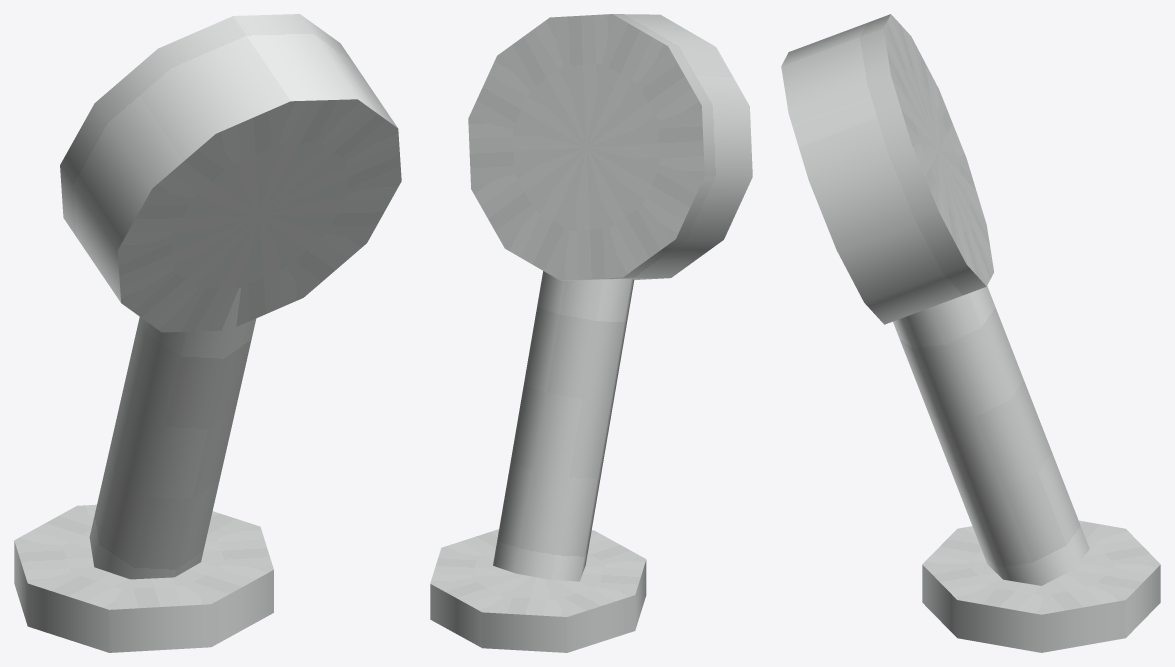
File: nycsignalarm_stub_36.obj
3 renders of one model, left to right at view 1: azimuth 30°, elevation 25°; view 2: azimuth 150°, elevation 25°; view 3: azimuth 270°, elevation 25°, orthographic. The views are drawn at different scales.
Parts seen in each view (by area): view 1: nycsignalarm_stub_36; view 2: nycsignalarm_stub_36; view 3: nycsignalarm_stub_36.
Part boxes in pixels (box(x1,y1,x2,y2)): nycsignalarm_stub_36: box(14, 14, 401, 652); nycsignalarm_stub_36: box(430, 14, 752, 652); nycsignalarm_stub_36: box(781, 14, 1160, 652).
Bounding box in the file's own units: 0.4269 × 0.9297 × 0.5571.
